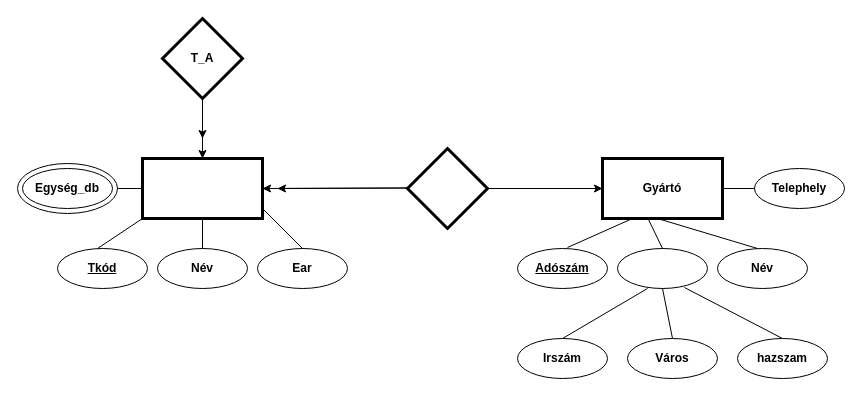
This 862x396 diagram has some shape labels left out. The shapes that lost their labels are listed below. From the top down, each one's centre as x and y in pixels, then its label:
At (202,188): "Termék".
At (447,188): "T-GY".
At (662,268): "Postacím".
